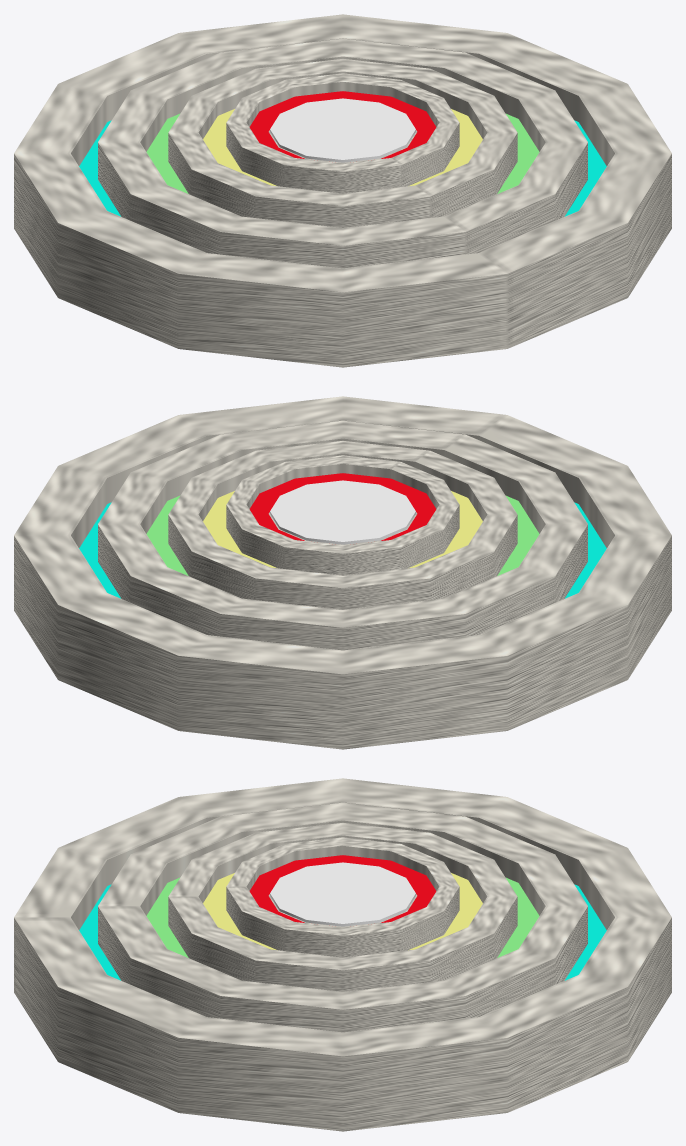
File: f_finaldoorswitch 2.fbx
3 views of the same model, one above another, from view 1: azimuth 30°, elevation 25°; view 2: azimuth 150°, elevation 25°; view 3: azimuth 270°, elevation 25° (orthographic).
Visible parts, largest first — view 1: f_finaldoorswitchblue, f_finaldoorswitchgreen, f_finaldoorswitchyellow, f_finaldoorswitchred, f_finaldoorswitchwhiteactived; view 2: f_finaldoorswitchblue, f_finaldoorswitchgreen, f_finaldoorswitchyellow, f_finaldoorswitchred, f_finaldoorswitchwhiteactived; view 3: f_finaldoorswitchblue, f_finaldoorswitchgreen, f_finaldoorswitchyellow, f_finaldoorswitchred, f_finaldoorswitchwhiteactived.
Part boxes in pixels (x1,y1,x2,y2): f_finaldoorswitchblue: (14, 14, 671, 367); f_finaldoorswitchgreen: (98, 38, 587, 268); f_finaldoorswitchyellow: (168, 59, 517, 227); f_finaldoorswitchred: (226, 73, 459, 193); f_finaldoorswitchwhiteactived: (270, 98, 415, 162); f_finaldoorswitchblue: (14, 396, 671, 749); f_finaldoorswitchgreen: (98, 420, 587, 650); f_finaldoorswitchyellow: (168, 441, 517, 609); f_finaldoorswitchred: (226, 455, 459, 575); f_finaldoorswitchwhiteactived: (270, 480, 415, 544); f_finaldoorswitchblue: (14, 778, 671, 1131); f_finaldoorswitchgreen: (98, 802, 587, 1032); f_finaldoorswitchyellow: (168, 823, 517, 991); f_finaldoorswitchred: (226, 837, 459, 957); f_finaldoorswitchwhiteactived: (270, 862, 415, 926).
Bounding box in the file's own units: 37.06 × 6.59 × 37.06.
7 materials, 7 textured.
